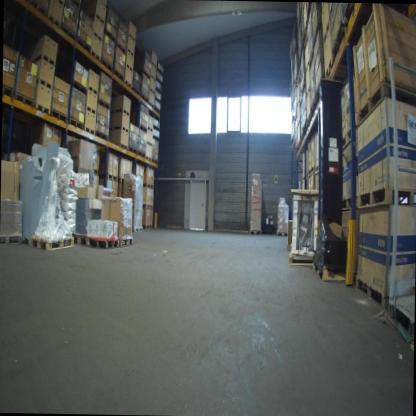pallet: (350, 79, 416, 129), (355, 178, 416, 218), (355, 270, 406, 305), (27, 233, 74, 250), (288, 249, 316, 269), (333, 20, 346, 61), (339, 124, 355, 155), (90, 235, 120, 250), (59, 22, 79, 42), (342, 192, 359, 215), (29, 53, 56, 67), (14, 91, 35, 108), (0, 231, 22, 246), (29, 0, 47, 18), (76, 36, 92, 55), (71, 79, 86, 99), (321, 18, 331, 47), (47, 11, 62, 29), (50, 108, 69, 122), (316, 79, 326, 105), (33, 101, 51, 114), (35, 78, 53, 91), (76, 233, 91, 248), (96, 98, 111, 113), (91, 11, 105, 27), (327, 56, 336, 80), (110, 107, 131, 117), (2, 82, 15, 98), (113, 68, 125, 85), (105, 30, 117, 47), (69, 116, 85, 128), (102, 58, 114, 74), (116, 40, 127, 57), (108, 125, 129, 133), (98, 173, 118, 181), (95, 130, 108, 142), (90, 49, 101, 63), (111, 141, 128, 150), (119, 237, 134, 247), (131, 84, 141, 99), (83, 124, 95, 136), (310, 99, 316, 122), (92, 30, 103, 42), (309, 49, 315, 71), (85, 104, 98, 114), (48, 0, 64, 8), (87, 84, 98, 95), (248, 228, 263, 236), (275, 230, 289, 238), (137, 124, 148, 134), (300, 122, 307, 137), (124, 78, 132, 90), (126, 46, 134, 58), (306, 113, 311, 131), (132, 224, 143, 232), (307, 164, 313, 178), (142, 182, 154, 189), (314, 167, 322, 177), (125, 62, 133, 72), (140, 93, 148, 103), (305, 60, 310, 76), (142, 202, 153, 209), (128, 145, 137, 153), (128, 32, 135, 42), (137, 151, 146, 158), (146, 137, 152, 147), (148, 87, 155, 95), (153, 106, 160, 114), (142, 224, 153, 229), (151, 60, 157, 69), (151, 157, 158, 164), (147, 101, 154, 108), (149, 73, 156, 80), (147, 125, 153, 133), (117, 177, 125, 183), (306, 86, 309, 101), (145, 155, 151, 162), (93, 168, 98, 175)
